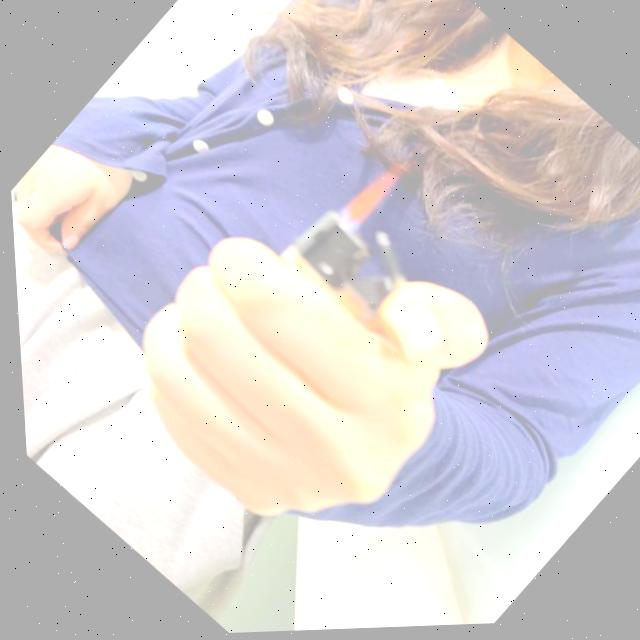Fire: (329, 165, 401, 238)
